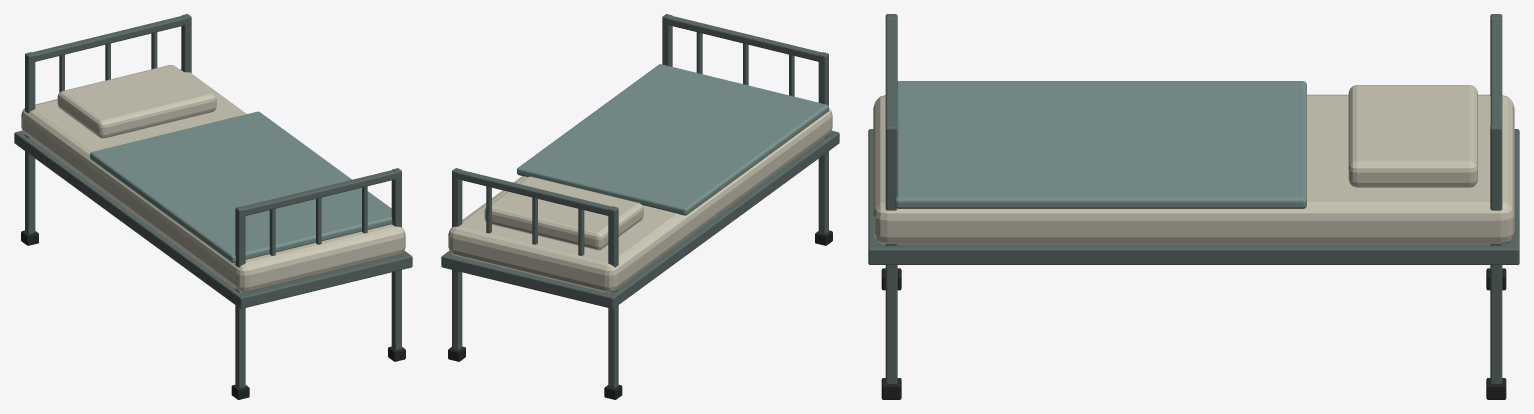
File: infirmary-bed.fbx
3 renders of one model, left to right at view 1: azimuth 30°, elevation 25°; view 2: azimuth 150°, elevation 25°; view 3: azimuth 270°, elevation 25°, orthographic. The views are drawn at different scales.
Visible parts, largest first — view 1: Folded blanket, Rounded mattress, Pillow, Steel mattress platform, End rail, End rail.001, Bed post, Bed post.001, Bed post.002, Bed post.003; view 2: Folded blanket, Rounded mattress, Steel mattress platform, Pillow, End rail.001, End rail, Bed post.001, Bed post.003, Bed post, Bed post.002; view 3: Folded blanket, Rounded mattress, Steel mattress platform, Pillow, Bed post.003, Bed post.002, End rail, End rail.001.
Boxes of the visible parts, <box> form: Folded blanket: <box>90,111,392,262</box>; Rounded mattress: <box>21,69,405,292</box>; Pillow: <box>57,65,216,138</box>; Steel mattress platform: <box>14,130,412,308</box>; End rail: <box>243,170,396,215</box>; End rail.001: <box>32,16,185,61</box>; Bed post: <box>235,206,245,388</box>; Bed post.001: <box>25,52,35,234</box>; Bed post.002: <box>391,168,401,350</box>; Bed post.003: <box>181,14,191,72</box>; Folded blanket: <box>517,64,828,215</box>; Rounded mattress: <box>448,108,832,292</box>; Steel mattress platform: <box>441,130,839,308</box>; Pillow: <box>484,176,643,250</box>; End rail.001: <box>457,170,610,215</box>; End rail: <box>668,16,821,61</box>; Bed post.001: <box>608,206,618,388</box>; Bed post.003: <box>452,168,462,350</box>; Bed post: <box>818,52,828,234</box>; Bed post.002: <box>662,14,672,66</box>; Folded blanket: <box>895,81,1306,208</box>; Rounded mattress: <box>873,94,1514,244</box>; Steel mattress platform: <box>868,129,1519,264</box>; Pillow: <box>1348,85,1477,187</box>; Bed post.003: <box>1490,123,1502,383</box>; Bed post.002: <box>885,123,897,383</box>; End rail: <box>885,19,897,124</box>; End rail.001: <box>1490,19,1502,124</box>.
Bounding box in the file's own units: 0.86 × 0.9 × 1.96.
